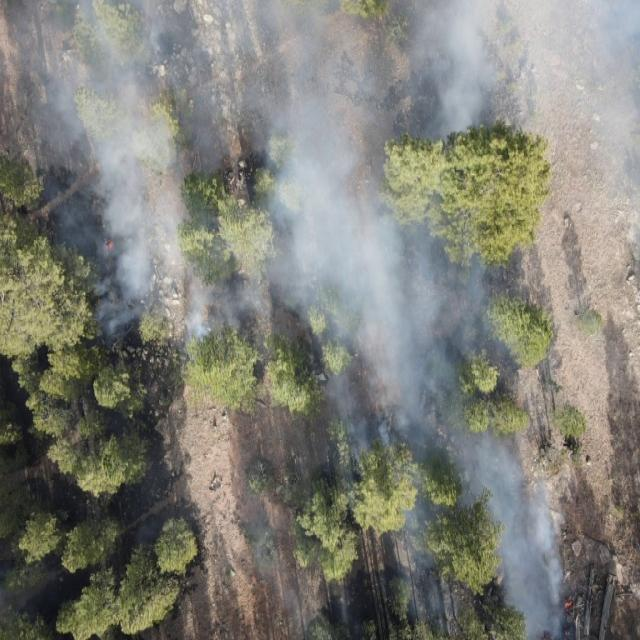fire: (562, 596, 577, 612), (104, 238, 116, 254)
smoke: (0, 0, 640, 350), (247, 350, 571, 640)
